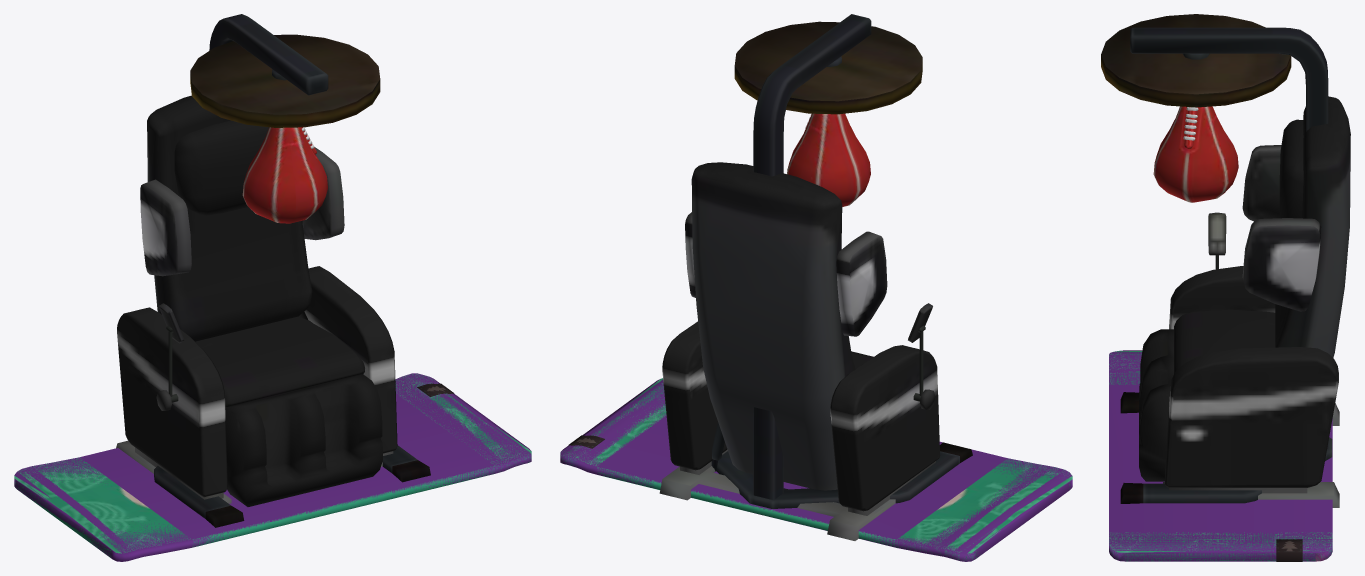
Rendered from gym2.glb.
3 views of the same model, side by side, from view 1: azimuth 30°, elevation 25°; view 2: azimuth 150°, elevation 25°; view 3: azimuth 270°, elevation 25° (orthographic).
Visible parts, largest first — view 1: mBody (×2), mReBody, mReFabric; view 2: mBody (×2), mReBody, mReFabric; view 3: mBody (×3), mReBody, mReFabric.
Part boxes in pixels (box(x1,y1,x2,y2)): mBody (×2): box(14, 95, 531, 557); mReBody: box(154, 14, 430, 527); mReFabric: box(14, 373, 531, 561); mBody (×2): box(560, 162, 1072, 560); mReBody: box(711, 14, 972, 516); mReFabric: box(560, 379, 1072, 561); mBody (×3): box(1109, 96, 1350, 561); mReBody: box(1101, 14, 1332, 503); mReFabric: box(1109, 350, 1332, 561).
Bounding box in the file's own units: 18.26 × 19.09 × 9.48.
Materials: 6 (6 with a texture image).
